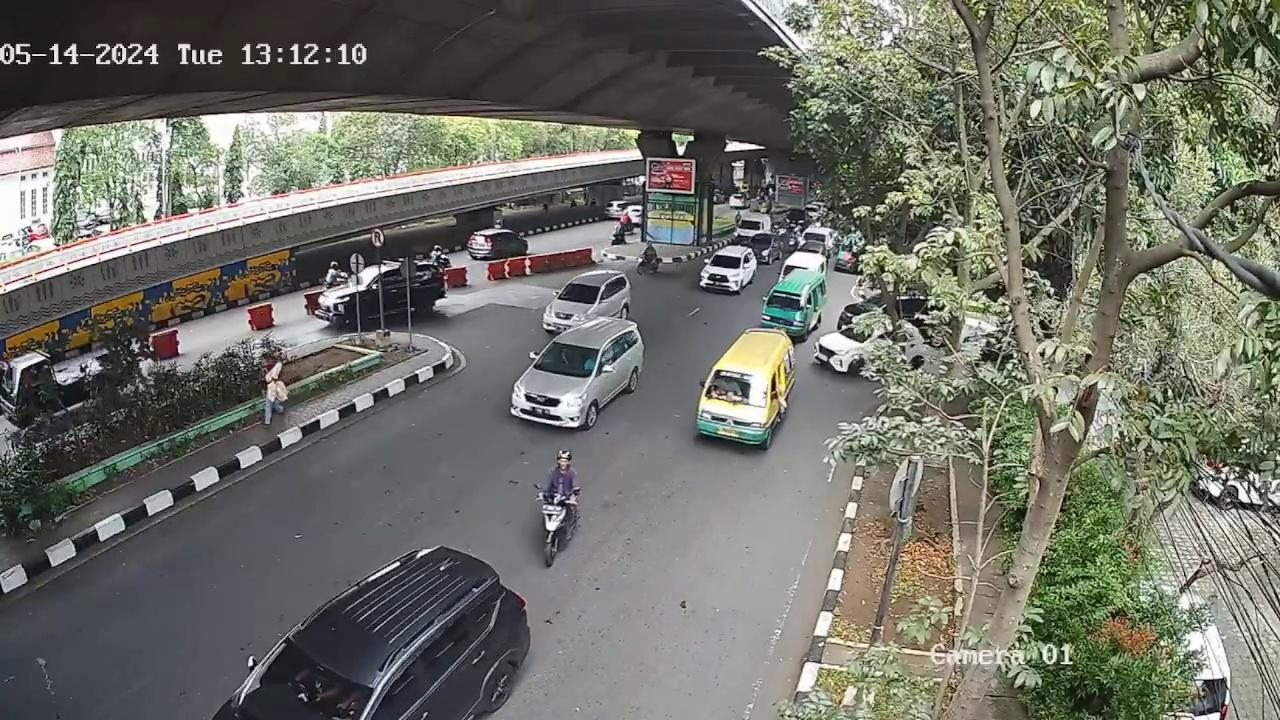pakai: (550, 349, 578, 366)
tidak-pakai: (717, 375, 744, 397)
windshield: (531, 341, 600, 376), (708, 367, 770, 405)
